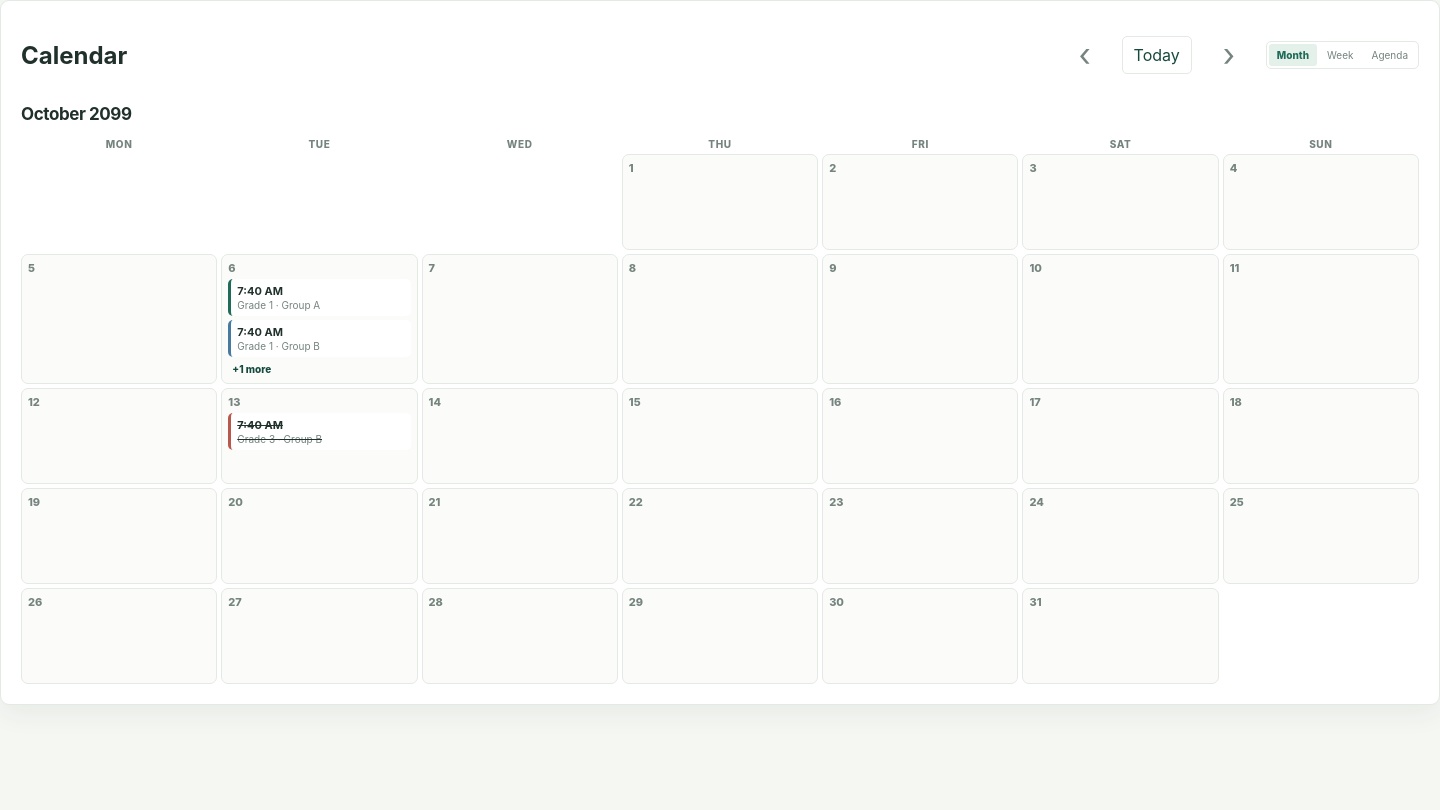
Test: navigates periods and switches between week and agenda views
Expected: the element named "October 6, 3 sessions" is shown, [221,254,418,384]
Click the button "Week". click: point(1340, 55)
box: [1319,44,1362,66]
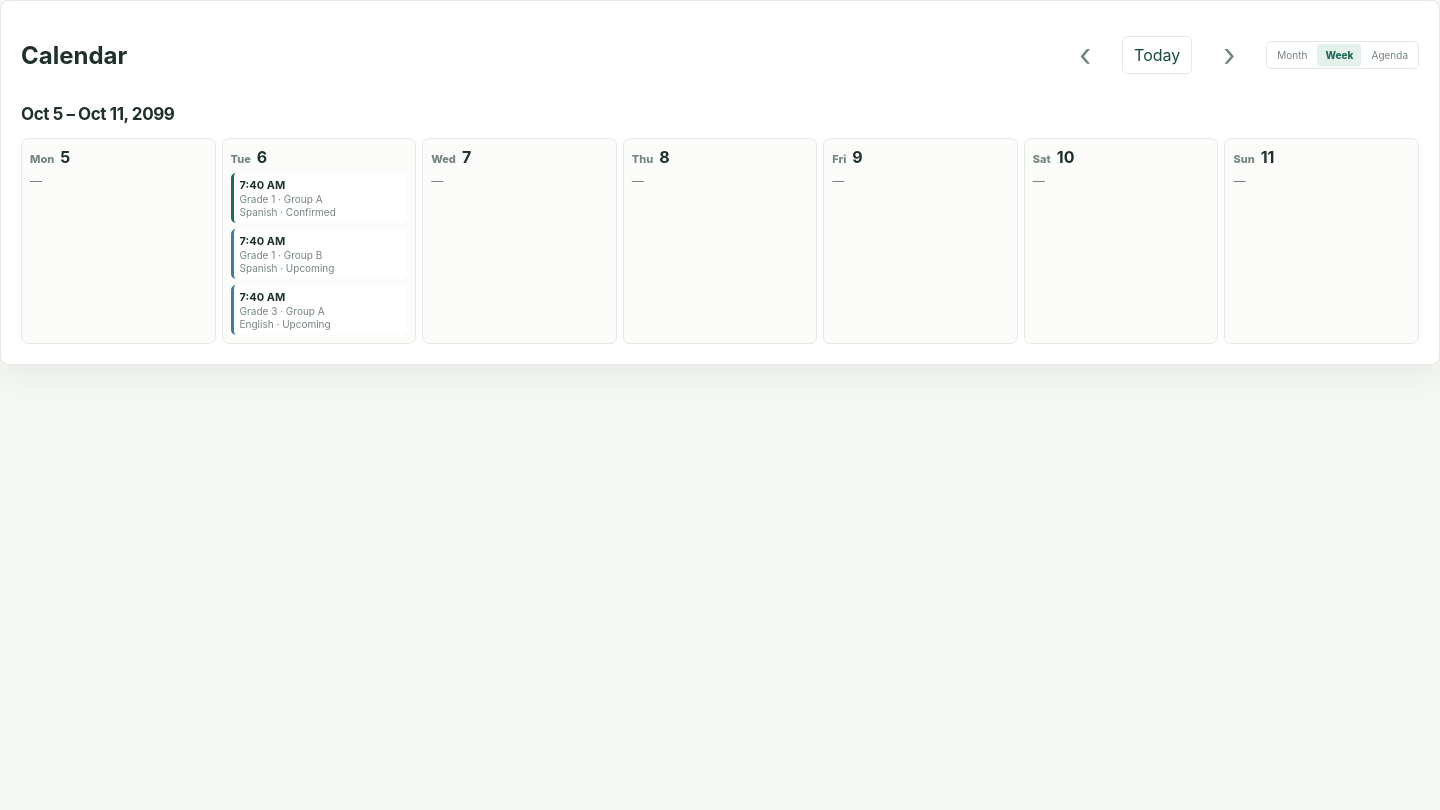
Now the heading "Oct 5 – Oct 11, 2099" is shown, box [21,104,174,124]
Now the element named "Tuesday, October 6, 3 sessions" is shown, box [222,138,416,344]
Click the button named "Next week". click: point(1229, 55)
box: [1200,26,1258,84]
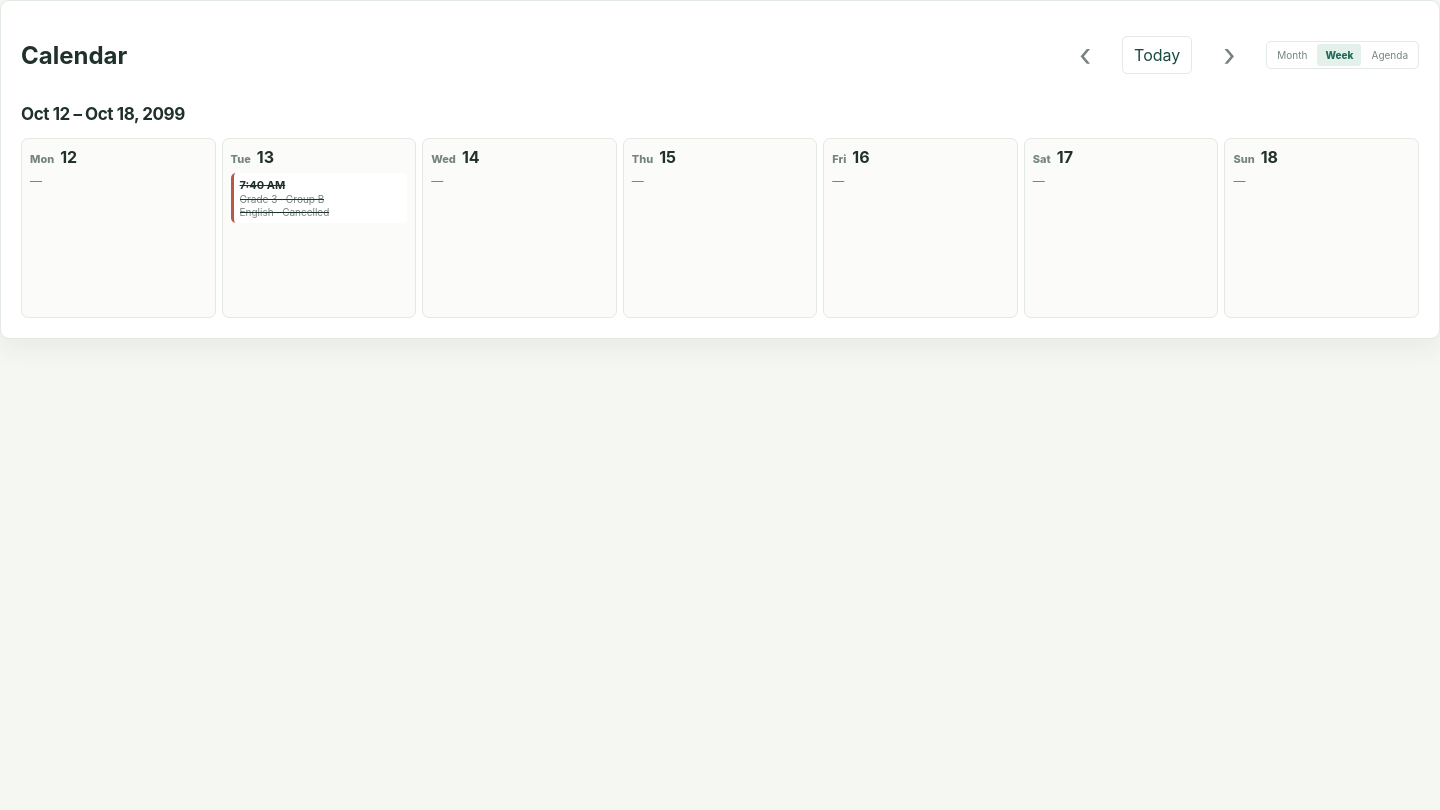
Now the element named "Tuesday, October 13, 1 session" is shown, box [222,138,416,318]
Click the button "Agenda". click: point(1390, 55)
box: [1364,44,1416,66]
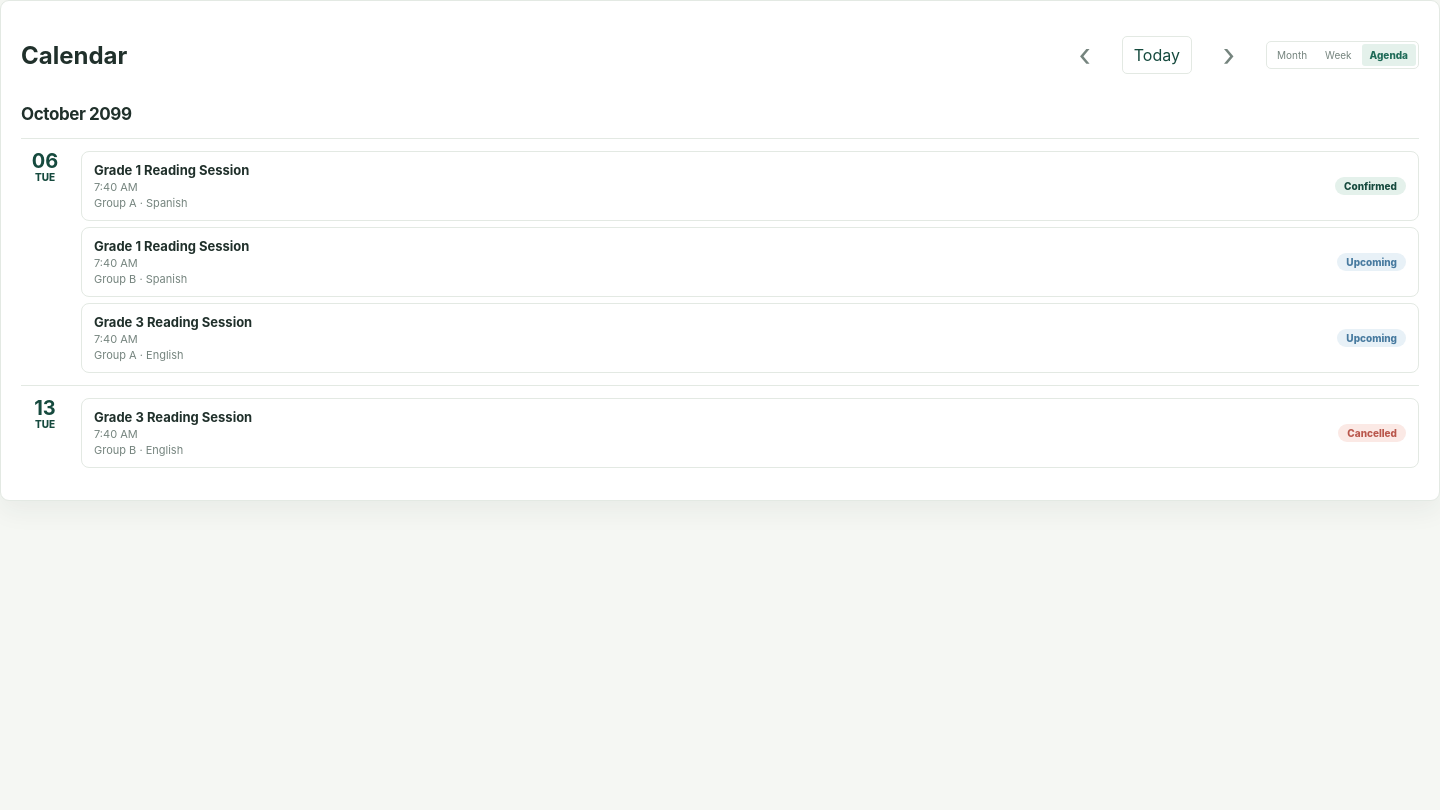
Now the button named "Grade 1, Group A, Spanish reading session, Tuesday, October 6" shows "Grade 1 Reading Session", box [81,151,1419,221]
Click the button named "Next month". click: point(1229, 55)
box: [1200,26,1258,84]
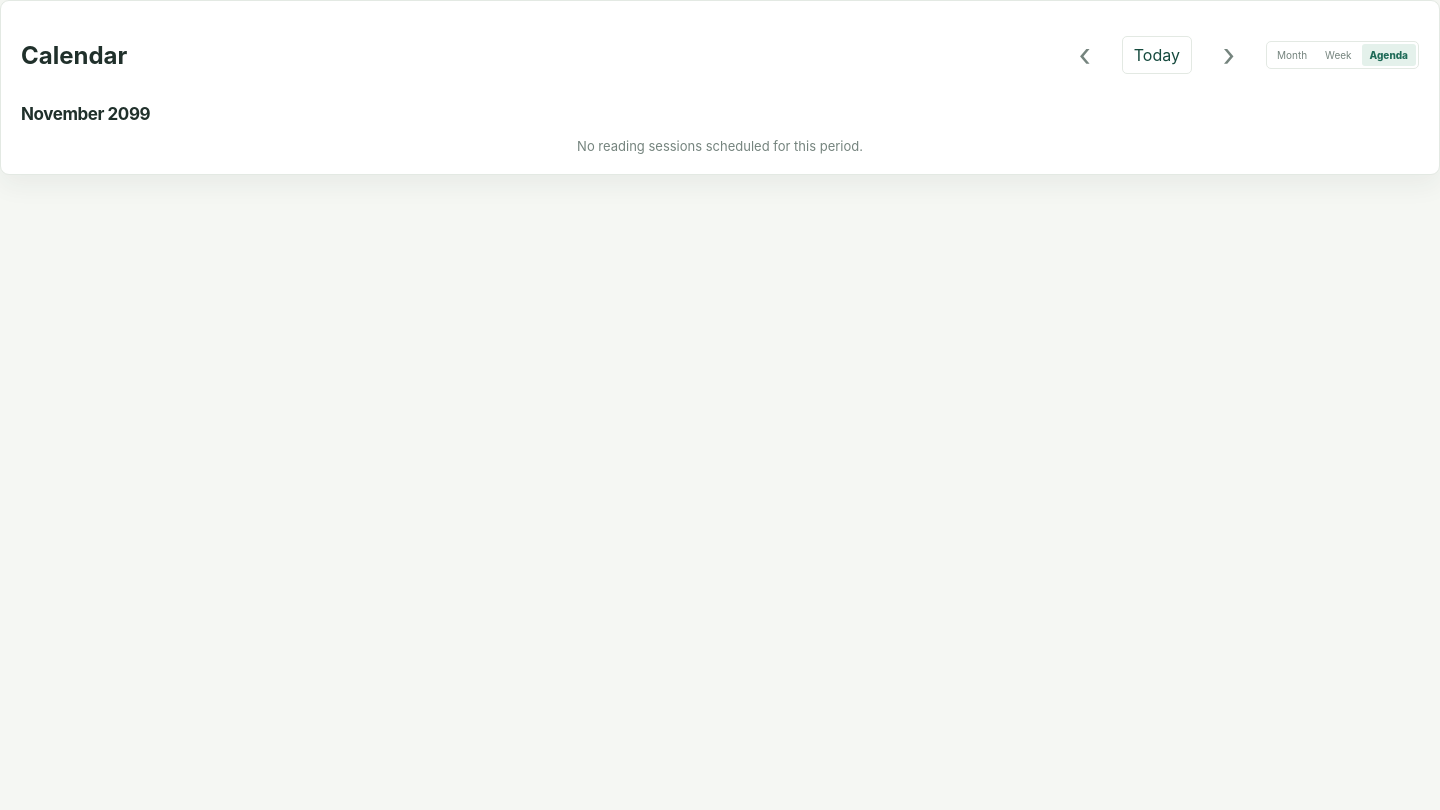
Now the text "No reading sessions scheduled for this period." is shown, box [577,138,863,154]
